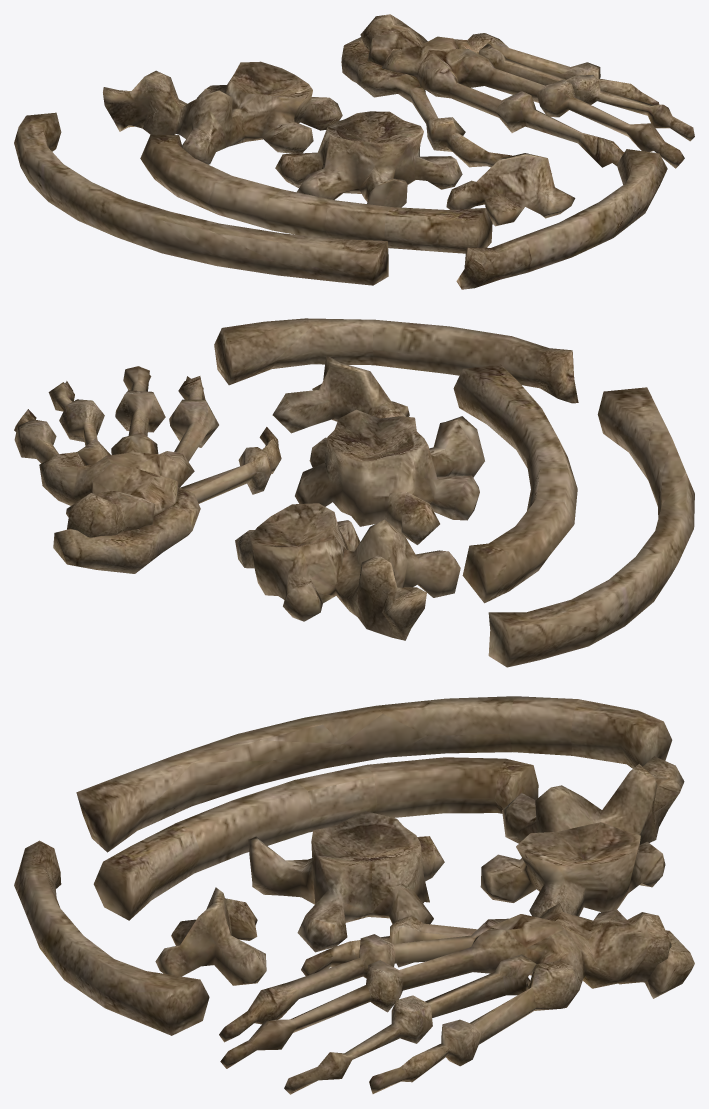
File: h_bone_C.glb
3 renders of one model, top to bottom at view 1: azimuth 30°, elevation 25°; view 2: azimuth 150°, elevation 25°; view 3: azimuth 270°, elevation 25°, orthographic. The views are drawn at different scales.
Visible parts, largest first — view 1: h_bone_C; view 2: h_bone_C; view 3: h_bone_C.
Part boxes in pixels (bbox=[...]): h_bone_C: bbox=[14, 14, 694, 289]; h_bone_C: bbox=[14, 318, 694, 667]; h_bone_C: bbox=[14, 696, 694, 1094].
Bounding box in the file's own units: 1.11 × 0.1226 × 0.9242.
Materials: 1 (1 with a texture image).
